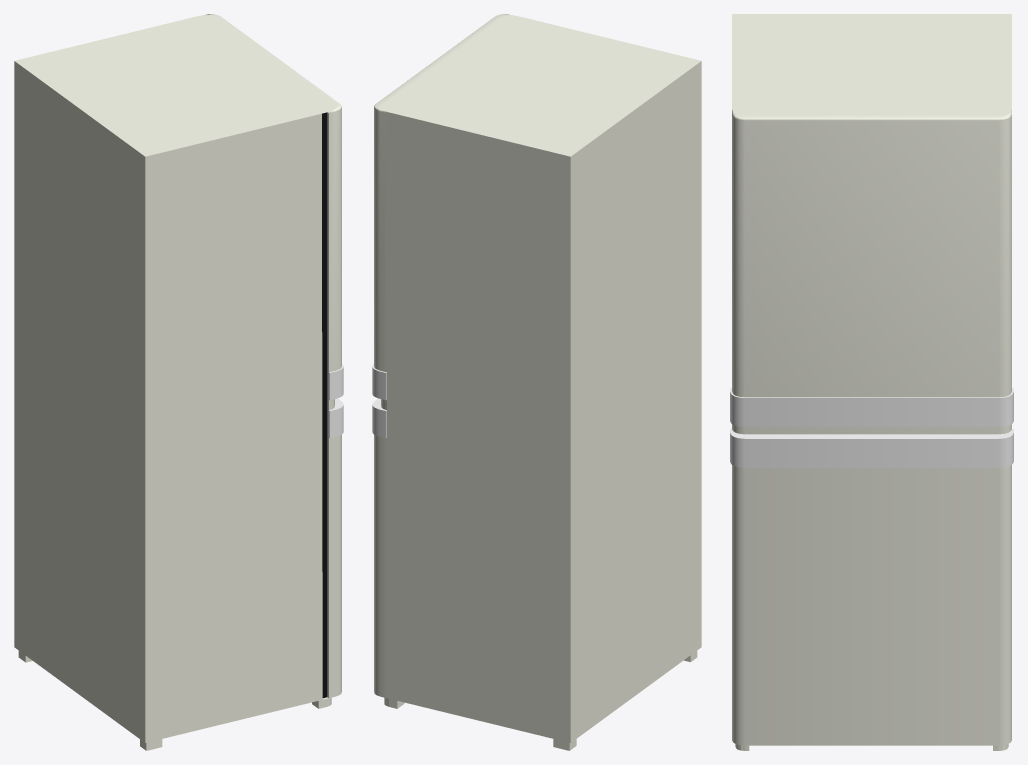
The model's file is Fridge.FBX.
3 renders of one model, left to right at view 1: azimuth 30°, elevation 25°; view 2: azimuth 150°, elevation 25°; view 3: azimuth 270°, elevation 25°, orthographic. The views are drawn at different scales.
Visible parts, largest first — view 1: Box001; view 2: Box001; view 3: Box001.
Part boxes in pixels (x1,y1,x2,y2): Box001: [14, 14, 343, 750]; Box001: [372, 14, 701, 750]; Box001: [730, 14, 1013, 750].
Bounding box in the file's own units: 28.31 × 79.59 × 32.12.
3 materials, 3 textured.
